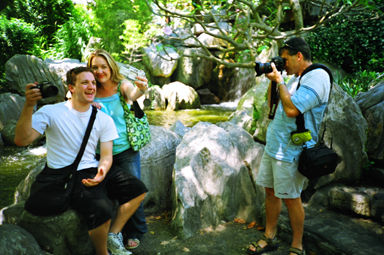person: (244, 37, 334, 255)
